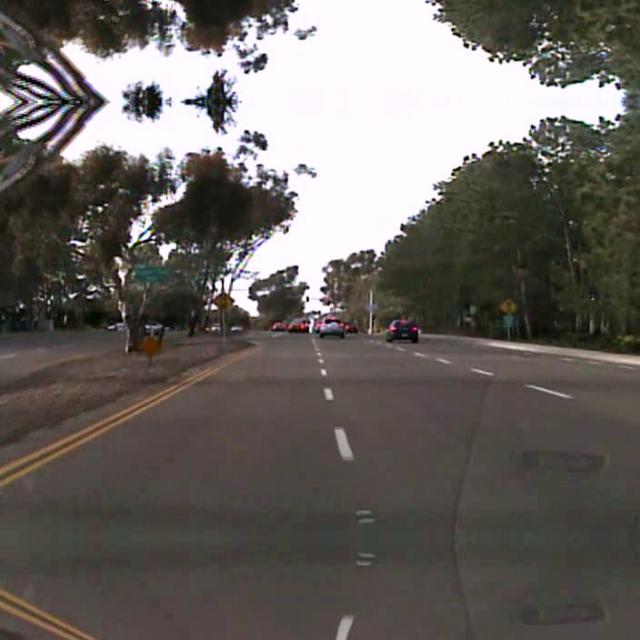signalAhead: (210, 290, 233, 310), (498, 295, 518, 315)
